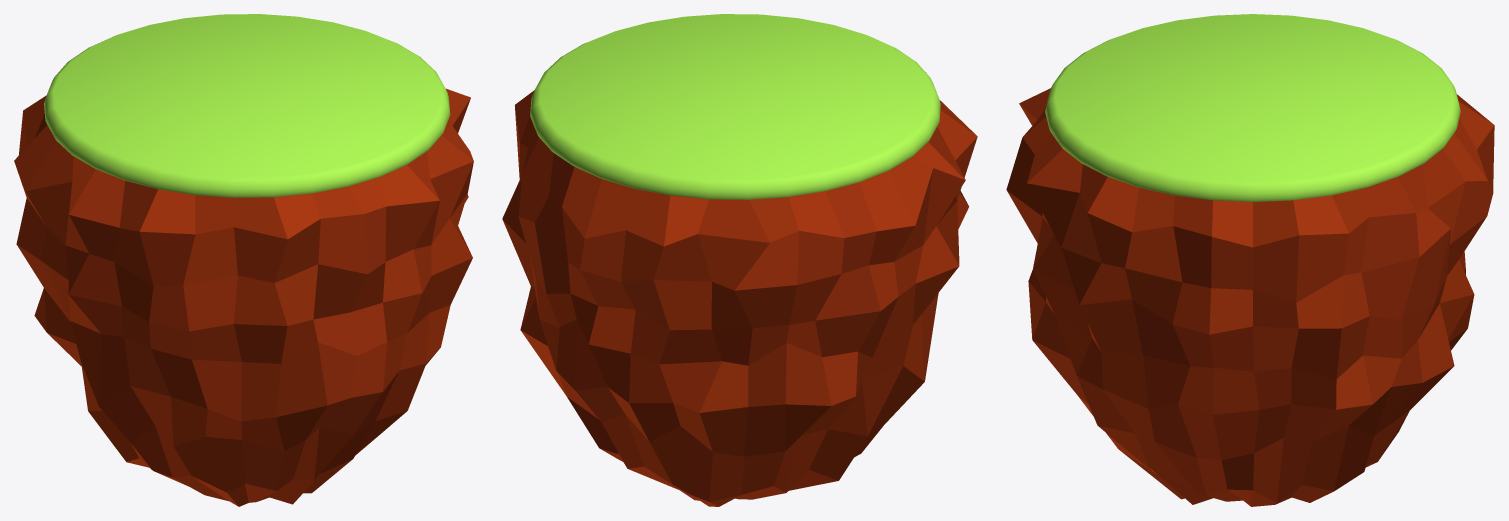
Rendered from island1.fbx.
3 views of the same model, side by side, from view 1: azimuth 30°, elevation 25°; view 2: azimuth 150°, elevation 25°; view 3: azimuth 270°, elevation 25° (orthographic). The views are drawn at different scales.
Parts seen in each view (by area): view 1: island(1); view 2: island(1); view 3: island(1).
Boxes of the visible parts, x1,y1,x2,y2 form: island(1): [14, 14, 473, 506]; island(1): [502, 14, 977, 506]; island(1): [1006, 14, 1494, 506].
Bounding box in the file's own units: 35.51 × 31.92 × 36.15.
1 material, 1 textured.
